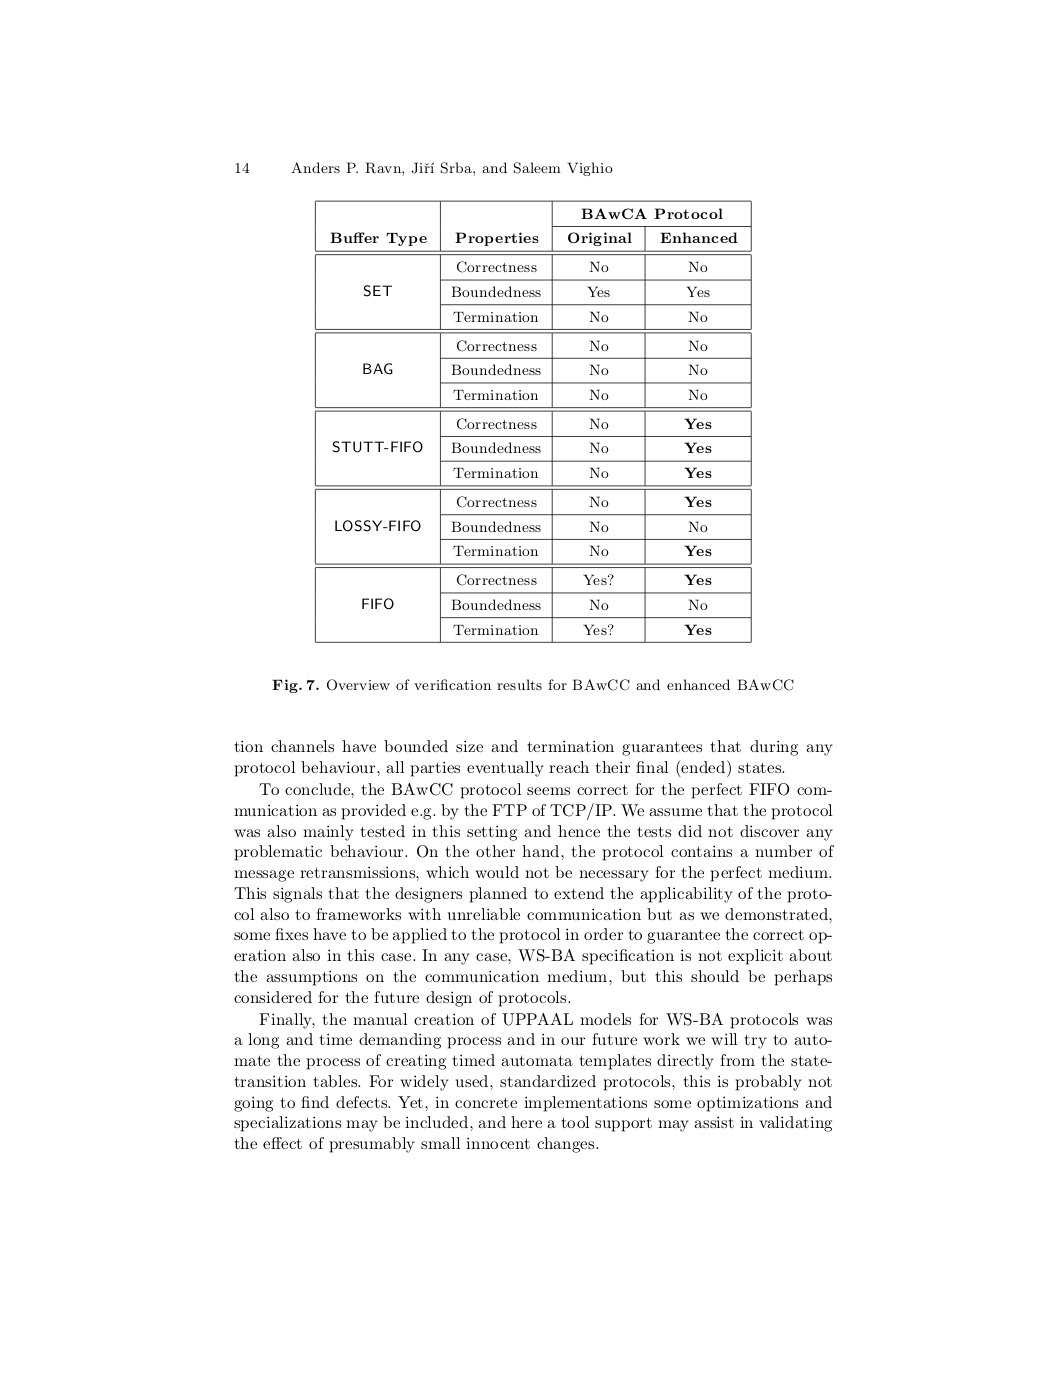Table: (314, 199, 751, 643)
